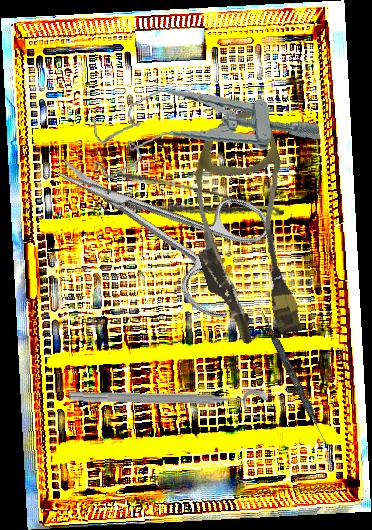Cannula: (163, 104, 328, 353)
Dressing Forceps: (109, 168, 286, 245)
Fixation Ring: (68, 386, 269, 421)
Iris Scissors: (32, 111, 282, 324)
Spatula Surgical: (256, 310, 333, 449)
Speculum: (87, 74, 322, 180)
